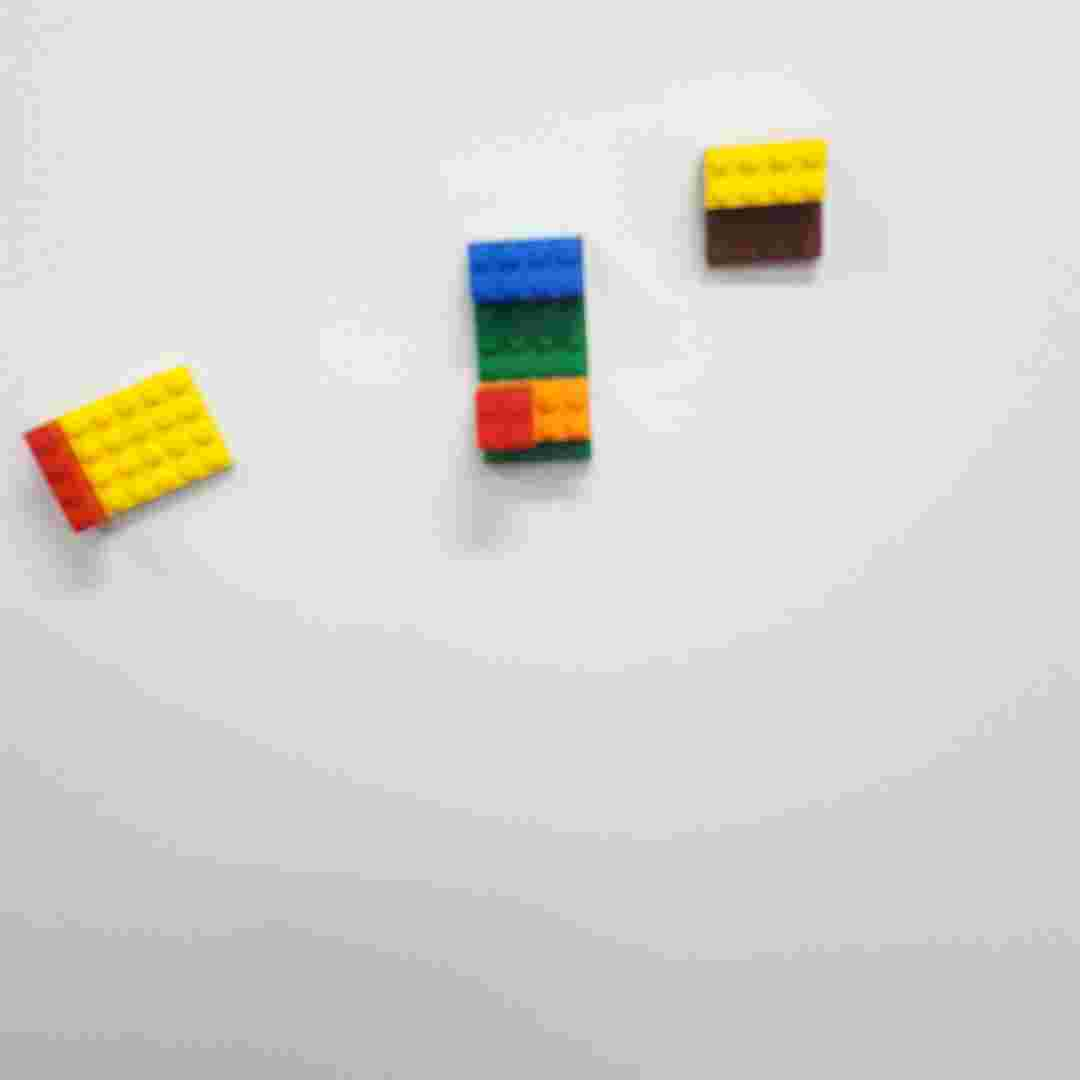LEGO: (17, 353, 240, 538), (465, 230, 601, 469), (701, 134, 834, 274)
